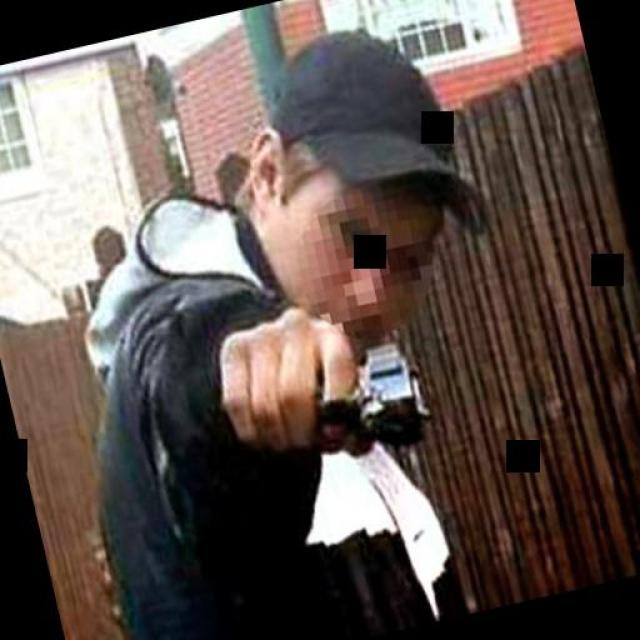gun: (296, 332, 438, 468)
